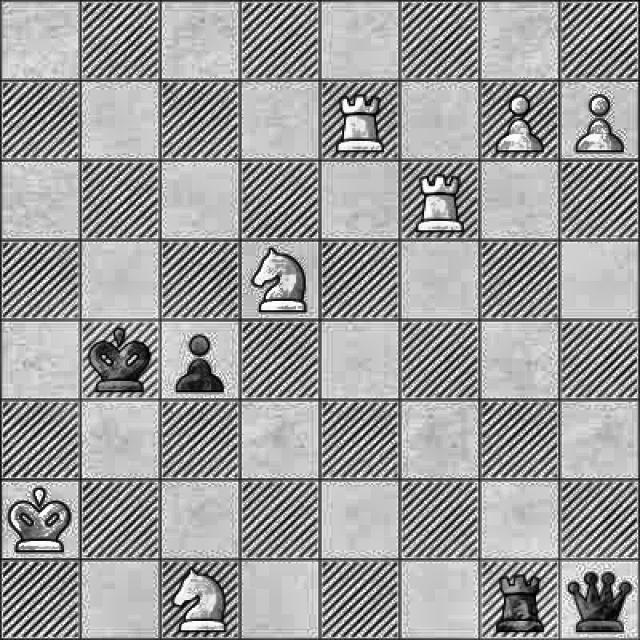black king: (83, 322, 155, 394)
black pawn: (168, 328, 234, 398)
black queen: (560, 563, 639, 640)
black rook: (488, 568, 550, 640)
white king: (6, 482, 75, 553)
white pawn: (572, 86, 630, 156), (497, 92, 547, 156)
white rook: (323, 84, 392, 158), (408, 171, 467, 235)
whiteknight: (243, 243, 317, 318), (163, 562, 231, 639)
